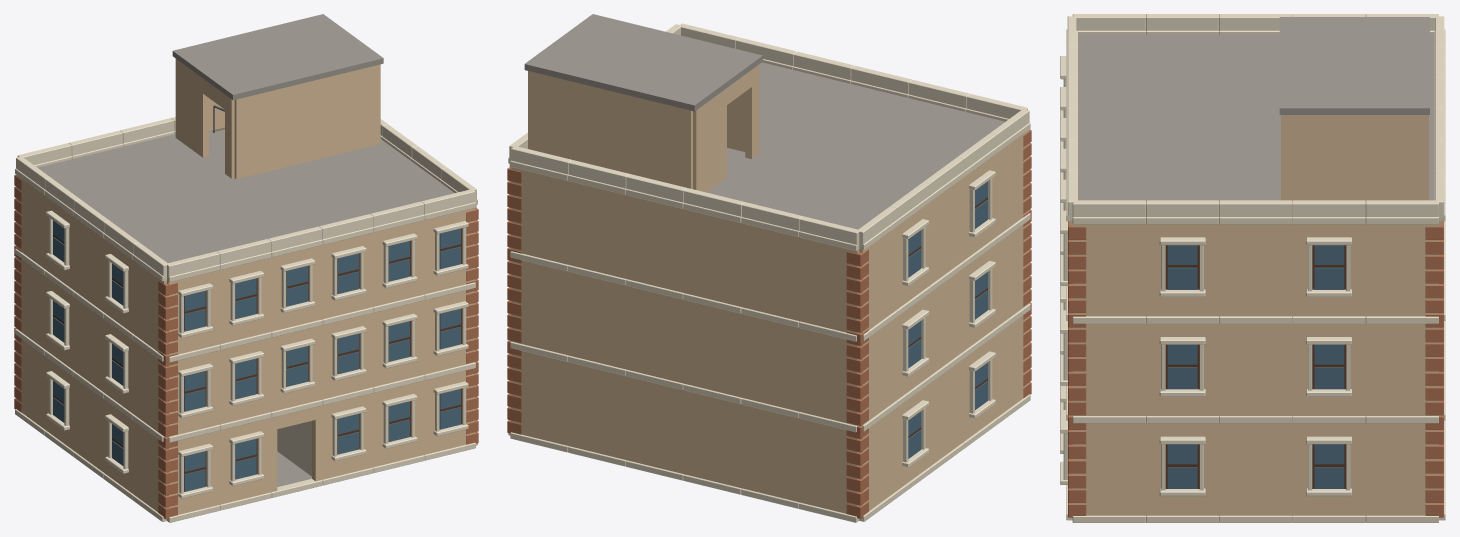
Rendered from BaseHouse.fbx.
The picture shows the model from 3 angles, left to right: view 1: azimuth 30°, elevation 25°; view 2: azimuth 150°, elevation 25°; view 3: azimuth 270°, elevation 25°; orthographic projection. The views are drawn at different scales.
Visible parts, largest first — view 1: Body.302, Body.308, Body.311, Body.303, Shell.023, Shell.013, Shell.003, Shell.026, Shell.016, Shell.006, Shell.005, Shell.014 (+80 smaller); view 2: Body.302, Body.311, Body.309, Body.025, Body.053, Body.084, Body.085, Body.024, Body.054, Body.052, Body.022, Body.023 (+51 smaller); view 3: Body.302, Body.311, Body.310, Body.303, Body.059, Body.030, Body.090, Body.092, Body.061, Body.032, Body.088, Body.057 (+50 smaller).
Part boxes in pixels (bbox=[...]): Body.302: bbox=[38, 131, 335, 262]; Body.308: bbox=[234, 64, 379, 179]; Body.311: bbox=[172, 14, 383, 100]; Body.303: bbox=[267, 140, 454, 221]; Shell.023: bbox=[219, 257, 270, 344]; Shell.013: bbox=[219, 338, 270, 424]; Shell.003: bbox=[219, 418, 270, 504]; Shell.026: bbox=[373, 220, 424, 306]; Shell.016: bbox=[373, 300, 424, 387]; Shell.006: bbox=[373, 381, 424, 467]; Shell.005: bbox=[322, 393, 372, 479]; Shell.014: bbox=[271, 325, 321, 411]; Body.302: bbox=[707, 75, 1005, 229]; Body.311: bbox=[524, 14, 762, 111]; Body.309: bbox=[529, 71, 692, 189]; Body.025: bbox=[568, 362, 626, 460]; Body.053: bbox=[626, 286, 684, 383]; Body.084: bbox=[626, 195, 684, 293]; Body.085: bbox=[568, 181, 626, 278]; Body.024: bbox=[626, 376, 684, 474]; Body.054: bbox=[568, 272, 626, 369]; Body.052: bbox=[684, 300, 741, 397]; Body.022: bbox=[742, 404, 799, 502]; Body.023: bbox=[684, 390, 741, 488]; Body.302: bbox=[1078, 34, 1433, 143]; Body.311: bbox=[1279, 17, 1429, 114]; Body.310: bbox=[1285, 115, 1424, 200]; Body.303: bbox=[1078, 144, 1280, 200]; Body.059: bbox=[1219, 323, 1292, 416]; Body.030: bbox=[1219, 423, 1292, 515]; Body.090: bbox=[1219, 224, 1292, 316]; Body.092: bbox=[1365, 224, 1438, 316]; Body.061: bbox=[1365, 323, 1438, 416]; Body.032: bbox=[1365, 423, 1438, 515]; Body.088: bbox=[1072, 224, 1145, 316]; Body.057: bbox=[1072, 323, 1145, 415].
Bounding box in the file's own units: 12.68 × 12.42 × 10.52.
